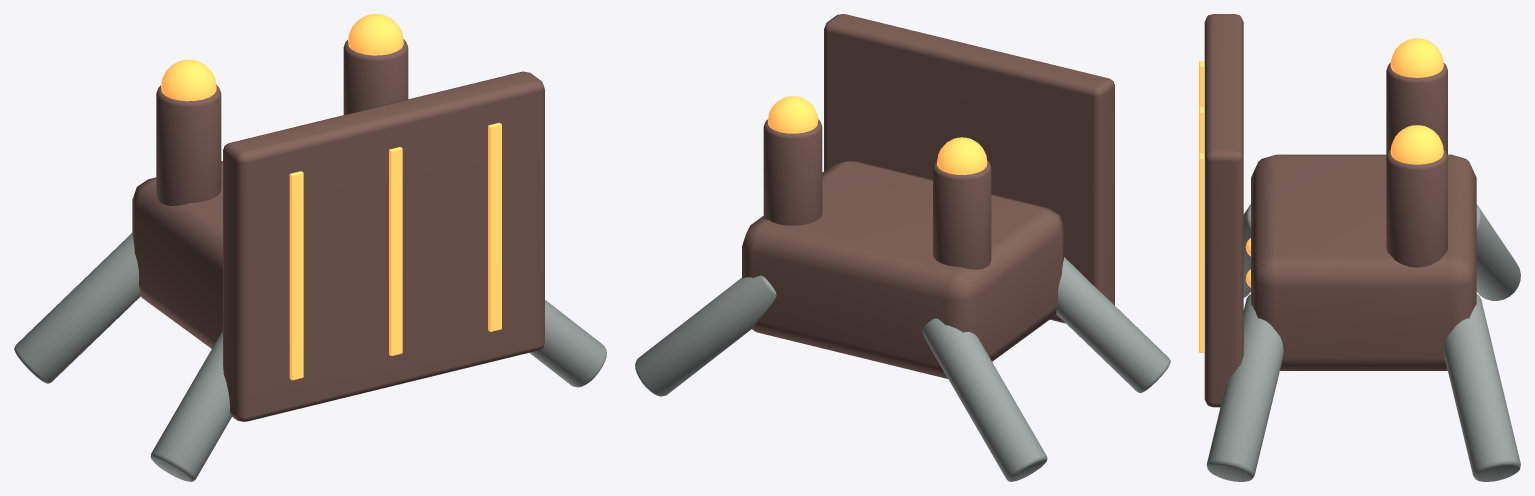
Rendered from card_p2_tank.glb.
3 views of the same model, side by side, from view 1: azimuth 30°, elevation 25°; view 2: azimuth 150°, elevation 25°; view 3: azimuth 270°, elevation 25° (orthographic). The views are drawn at different scales.
Parts seen in each view (by area): view 1: card_p2_tank; view 2: card_p2_tank; view 3: card_p2_tank.
Part boxes in pixels (left/top/right/bottom): card_p2_tank: left=14, top=14, right=606, bottom=481; card_p2_tank: left=635, top=14, right=1170, bottom=481; card_p2_tank: left=1199, top=14, right=1520, bottom=481.
Size of the model in its own units: 2.4 by 1.66 by 1.57.
